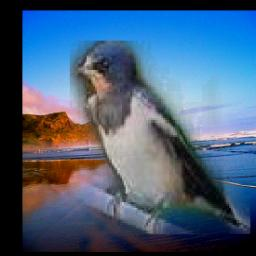Swallow: (70, 42, 250, 235)
